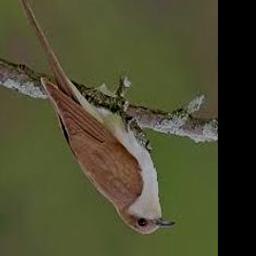Cuckoo: (10, 0, 176, 235)
